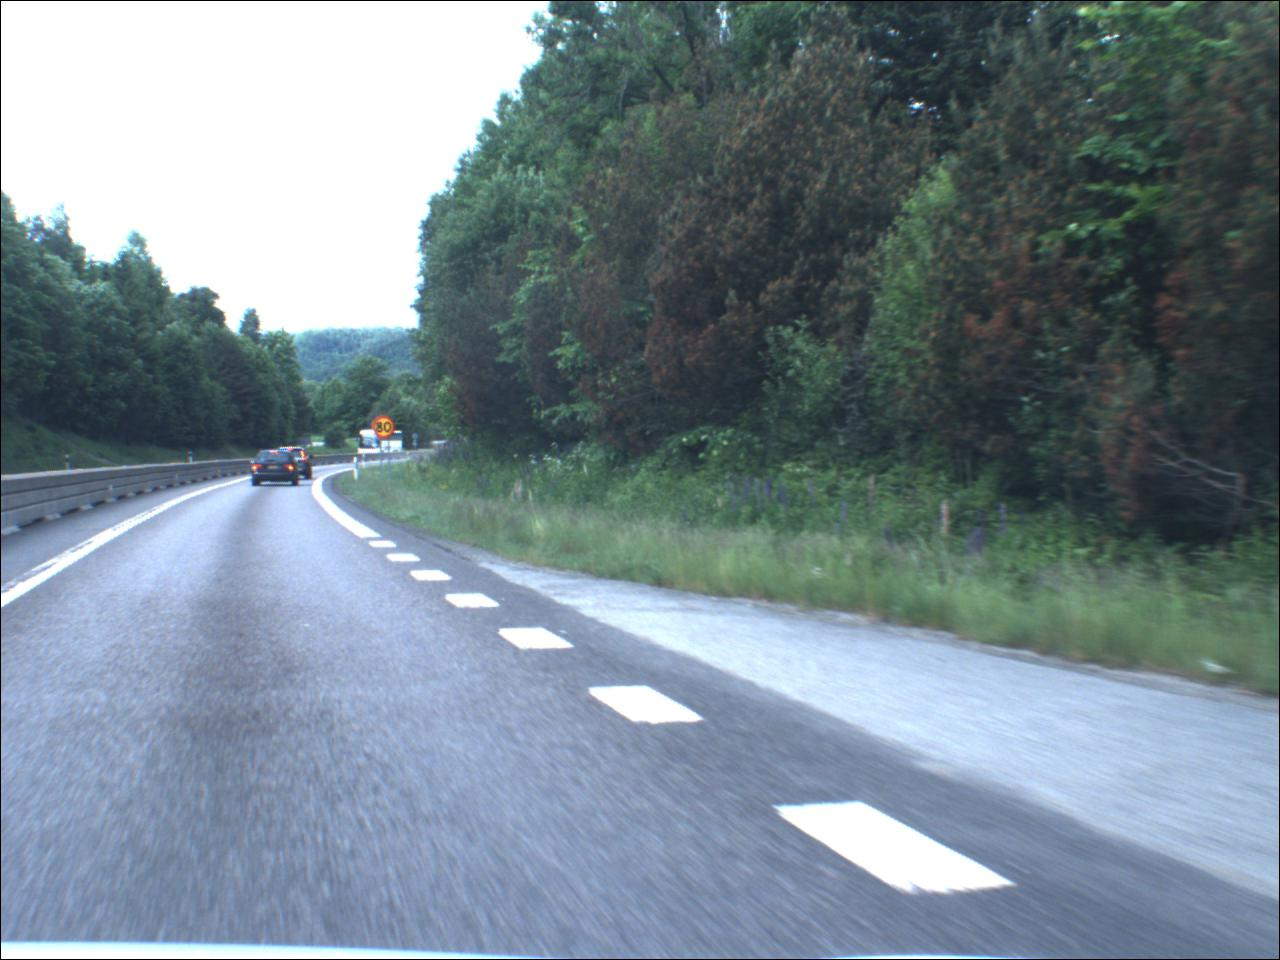80_SIGN: (374, 417, 397, 442)
